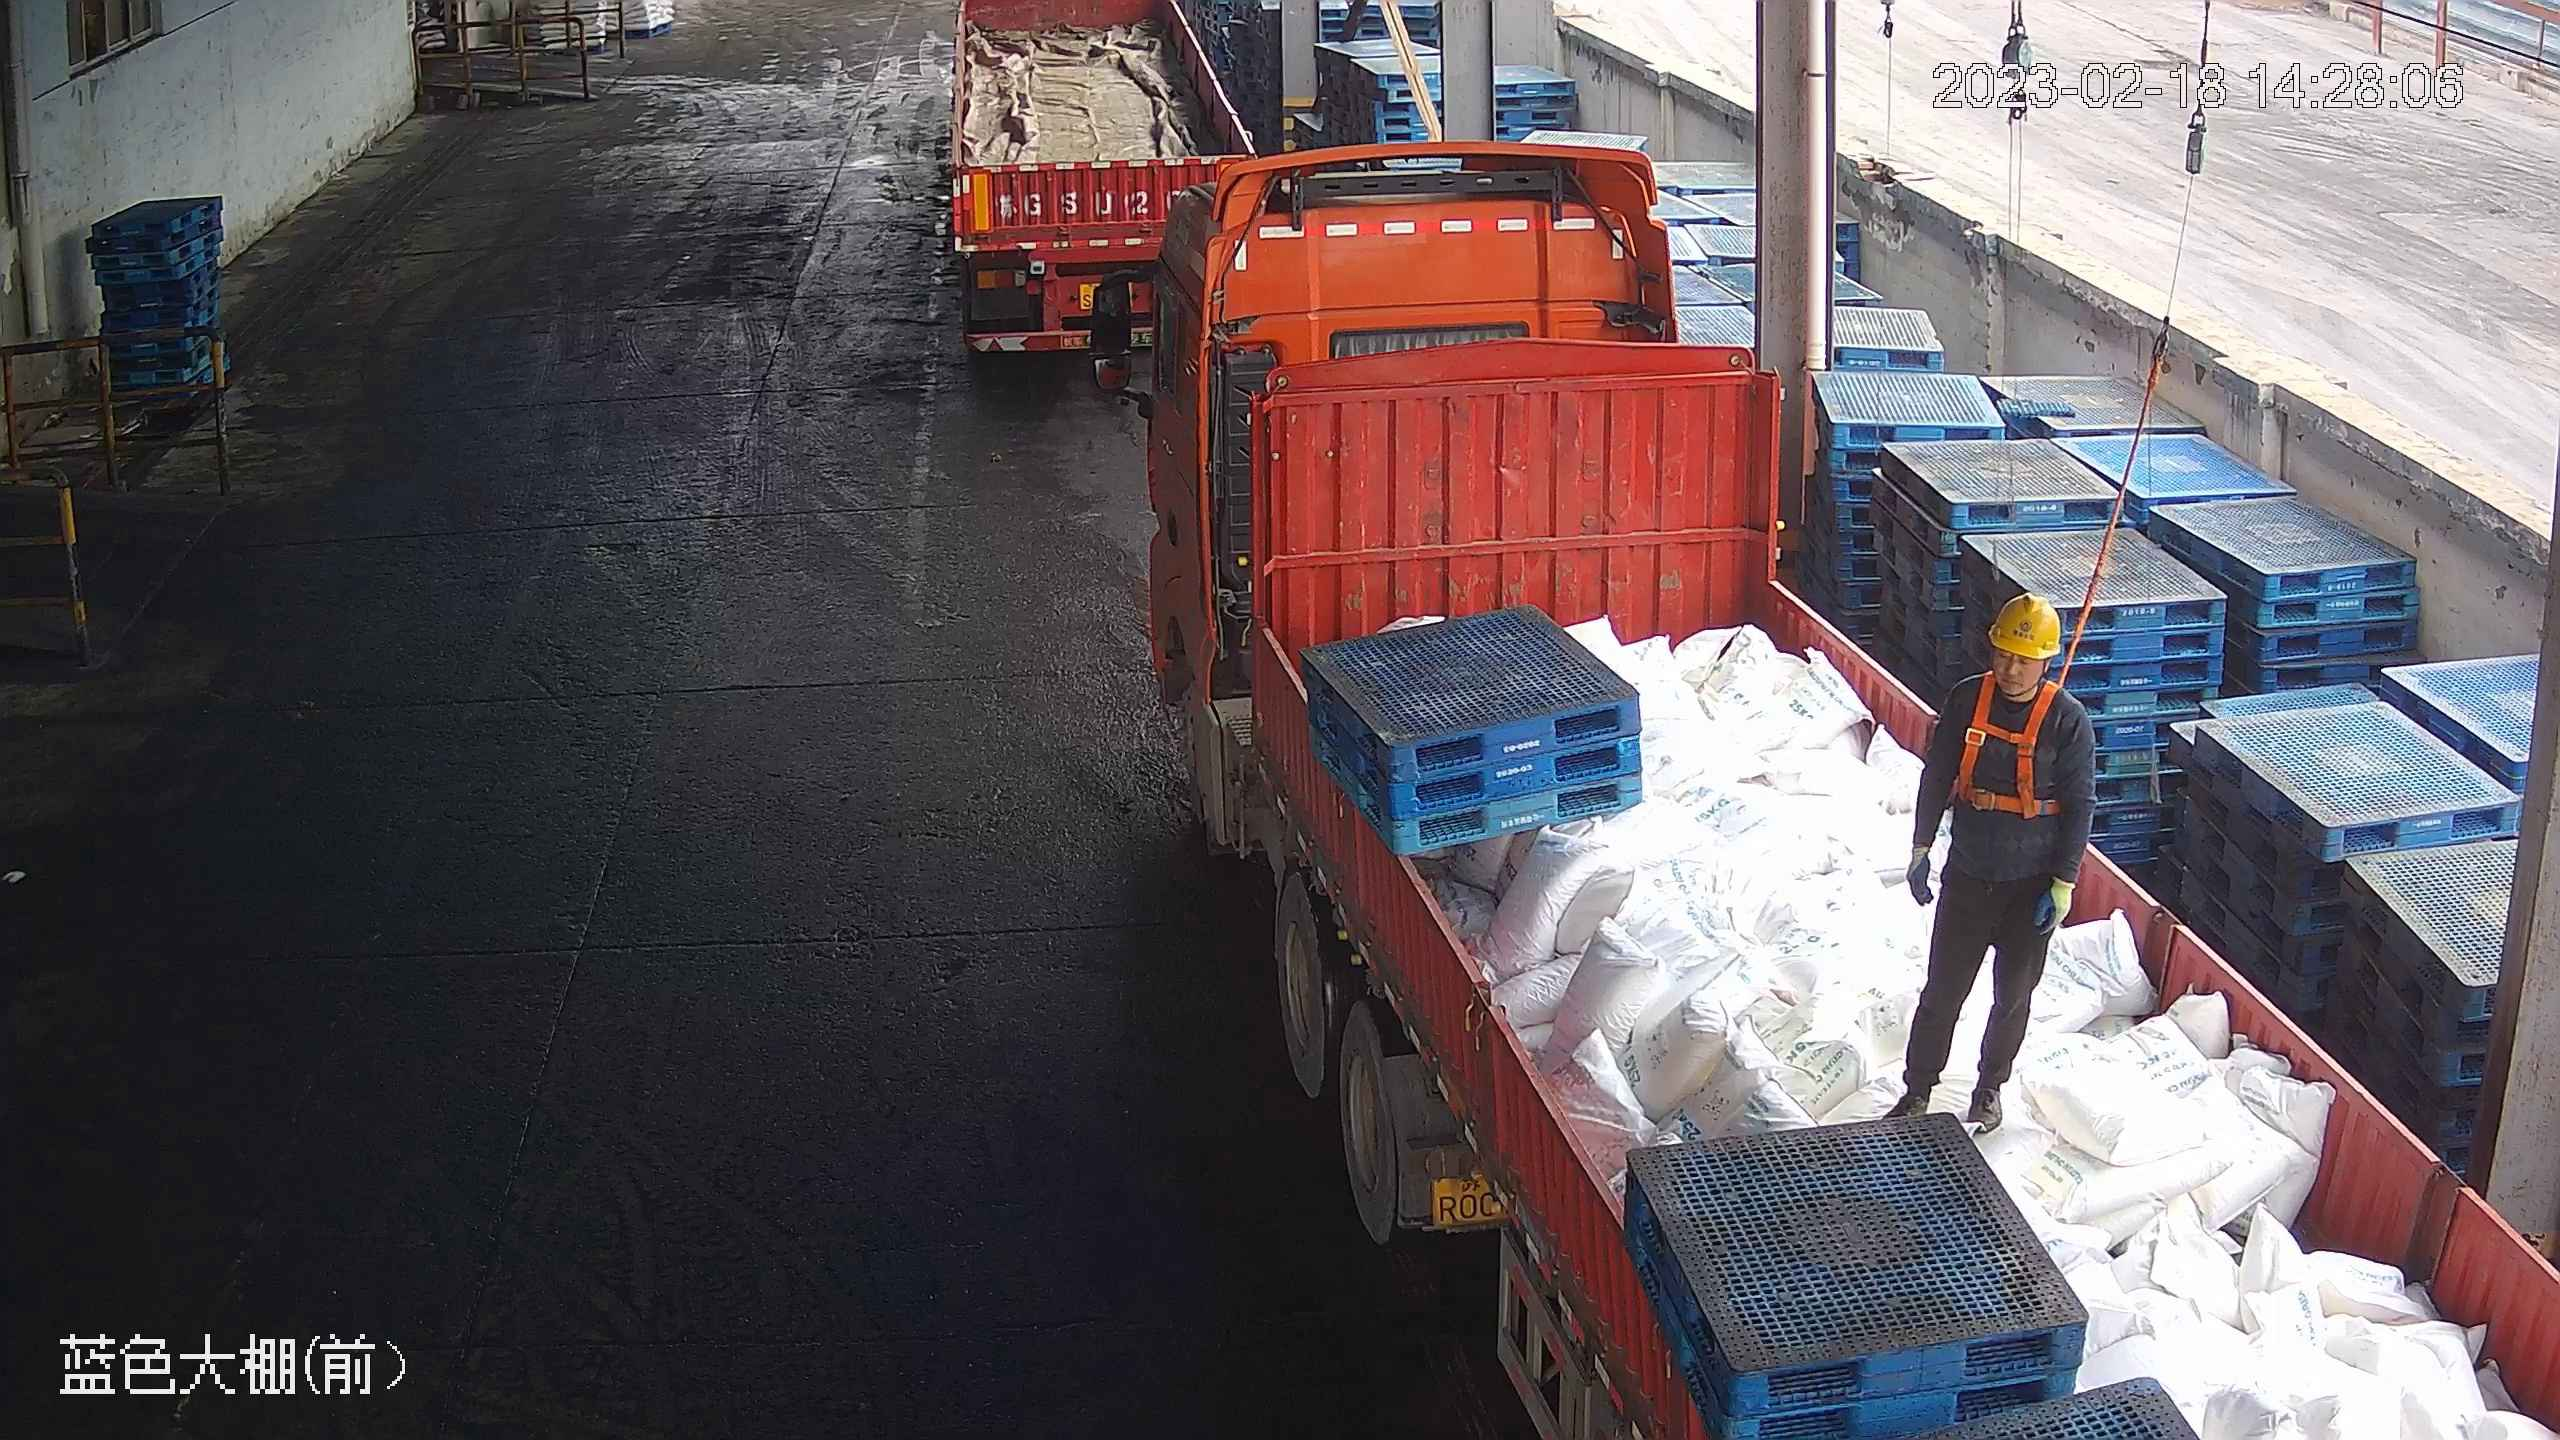belt: (1953, 662, 2072, 819)
head: (1929, 589, 2094, 759)
helmet: (1986, 591, 2064, 659)
people: (1882, 587, 2096, 1136)
truck: (1081, 135, 2553, 1440), (945, 1, 1264, 355)
